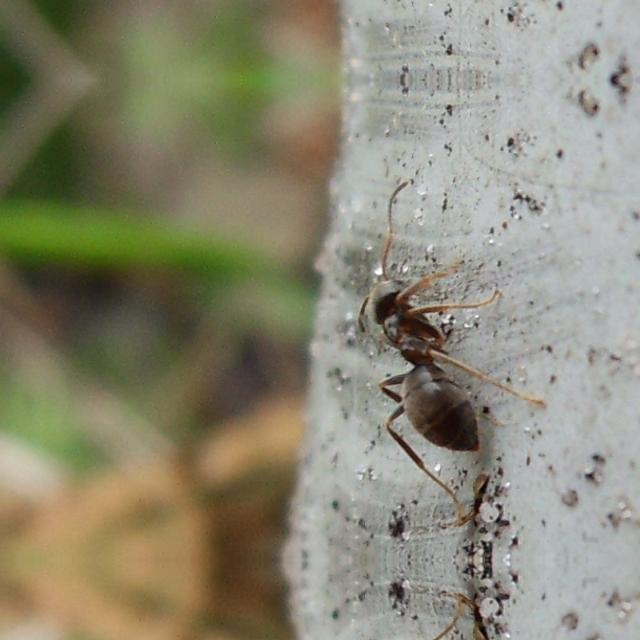Lasius: (358, 252, 526, 476)
